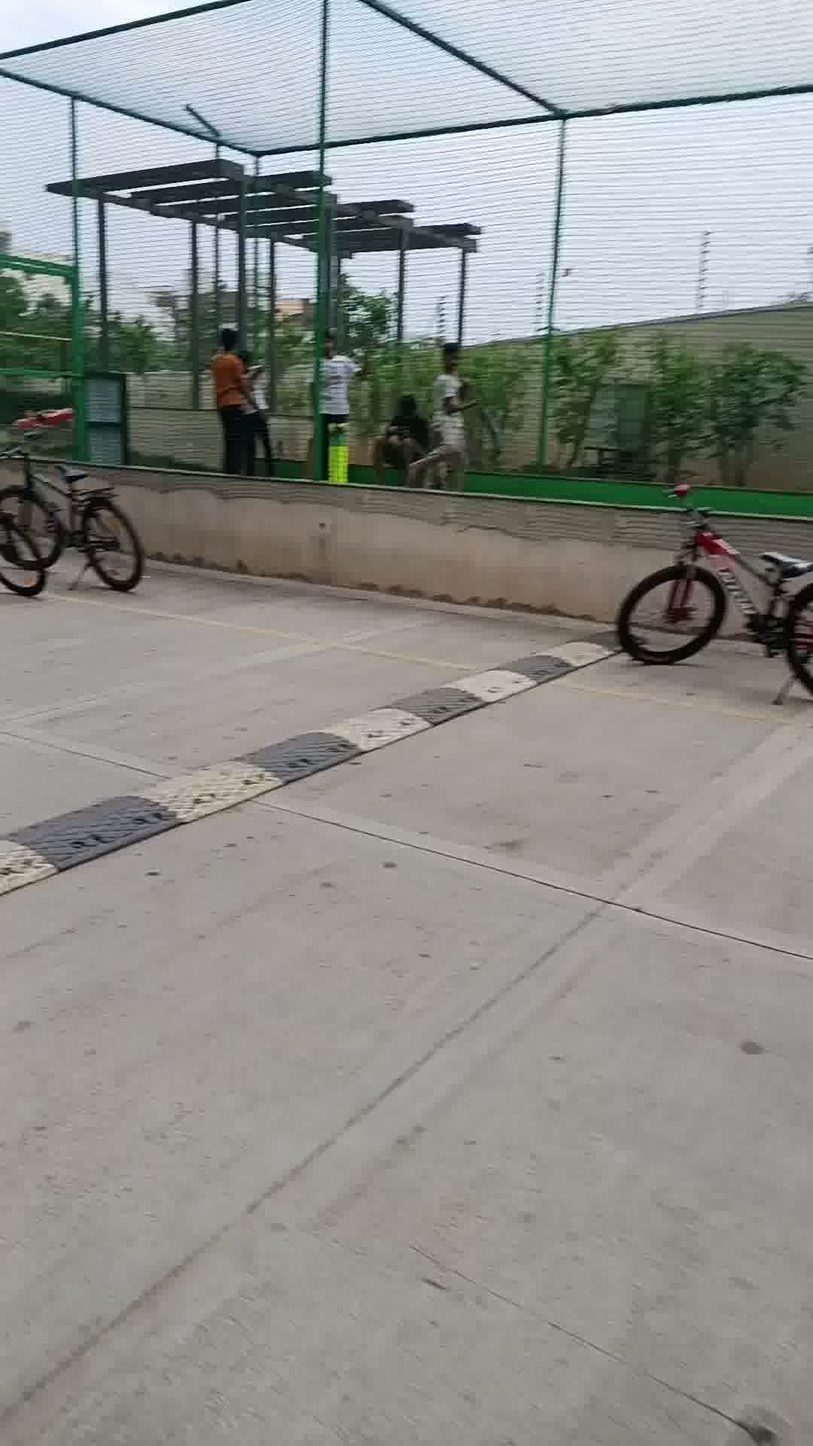bicycle: (583, 436, 813, 737), (0, 447, 171, 598)
person: (200, 305, 279, 482), (306, 321, 367, 507), (426, 323, 478, 501), (237, 342, 293, 479), (369, 378, 438, 485)
